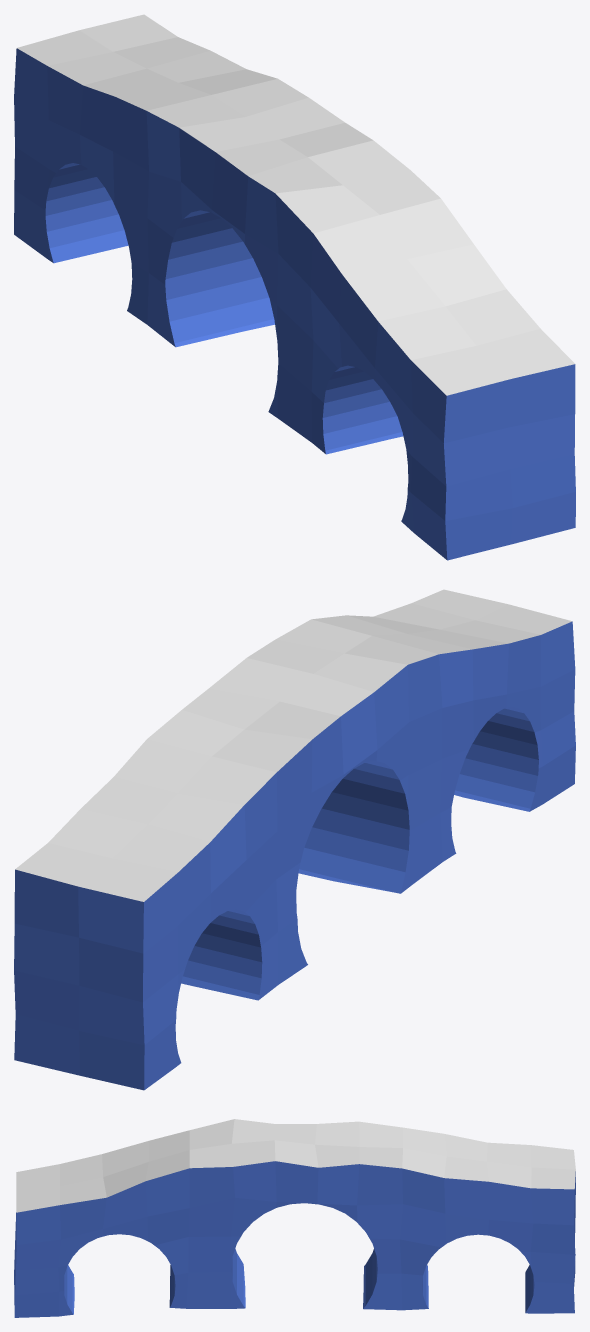
The model's file is bridge.fbx.
The picture shows the model from 3 angles, top to bottom: view 1: azimuth 30°, elevation 25°; view 2: azimuth 150°, elevation 25°; view 3: azimuth 270°, elevation 25°; orthographic projection. The views are drawn at different scales.
Visible parts, largest first — view 1: Cube; view 2: Cube; view 3: Cube.
Part boxes in pixels (x1,y1,x2,y2): Cube: (14, 14, 575, 560); Cube: (14, 589, 575, 1090); Cube: (14, 1119, 575, 1317).
Bounding box in the file's own units: 2189 × 3762 × 12108.
